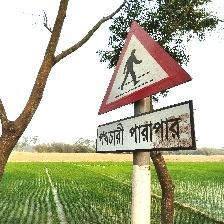Pedestrian-crossing: (95, 19, 197, 155)
